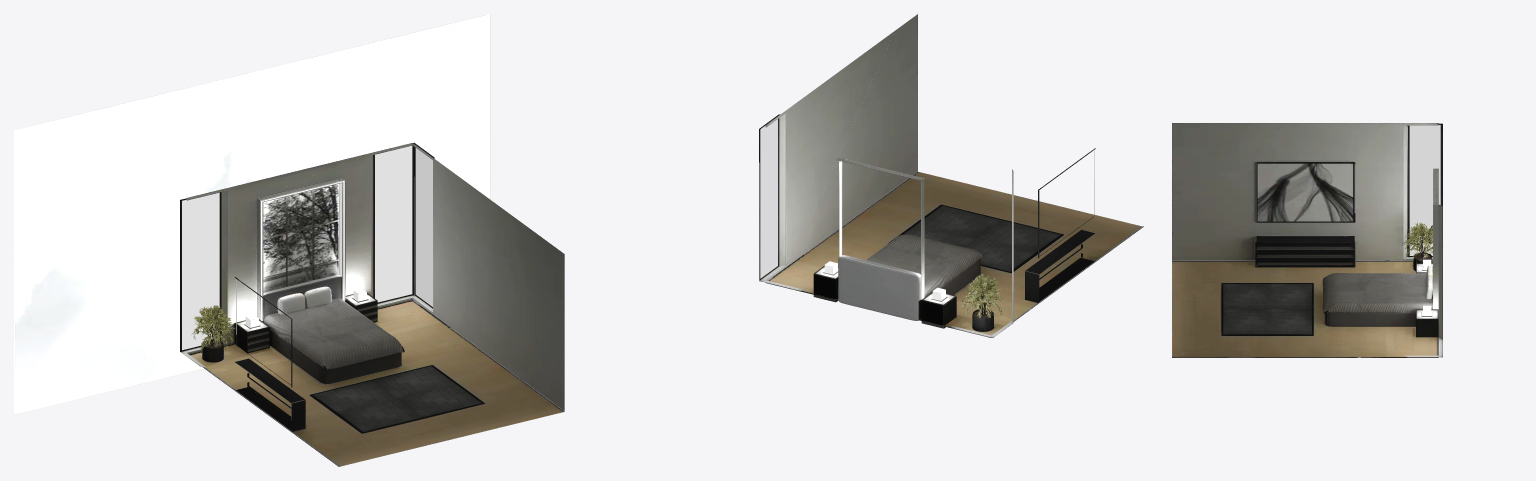
The model's file is bedroom.glb.
3 renders of one model, left to right at view 1: azimuth 30°, elevation 25°; view 2: azimuth 150°, elevation 25°; view 3: azimuth 270°, elevation 25°, orthographic. The views are drawn at different scales.
Visible parts, largest first — view 1: rest -1 -2, rest 0 -2, rest 0 -1, floor -1 0, rest 0 0, floor 0 -1, rest -1 -1, floor 0 0, rest -1 0, floor -1 -1; view 2: rest 0 -1, floor -1 0, rest 0 0, floor 0 -1, rest -1 -1, rest -1 -2, rest 0 -2, floor 0 0, rest -1 0, floor -1 -1; view 3: rest -1 0, rest -1 -1, floor -1 0, floor 0 -1, rest 0 -1, floor 0 0, rest 0 -2, floor -1 -1.
Boxes of the visible parts, box(x1,y1,x2,y2) form: rest -1 -2: box(14, 14, 489, 414); rest 0 -2: box(14, 14, 490, 414); rest 0 -1: box(304, 143, 541, 389); floor -1 0: box(192, 356, 562, 466); rest 0 0: box(424, 238, 564, 418); floor 0 -1: box(190, 295, 562, 411); rest -1 -1: box(194, 279, 370, 436); floor 0 0: box(380, 319, 564, 456); rest -1 0: box(219, 319, 423, 466); floor -1 -1: box(181, 352, 379, 452); rest 0 -1: box(759, 31, 941, 301); floor -1 0: box(918, 172, 1142, 335); rest 0 0: box(789, 14, 917, 264); floor 0 -1: box(760, 172, 989, 334); rest -1 -1: box(902, 169, 1112, 331); rest -1 -2: box(804, 179, 991, 337); rest 0 -2: box(759, 129, 951, 327); floor 0 0: box(788, 171, 1105, 266); rest -1 0: box(1020, 150, 1143, 315); floor -1 -1: box(980, 242, 1120, 337); rest -1 0: box(1172, 123, 1407, 308); rest -1 -1: box(1213, 123, 1442, 295); floor -1 0: box(1172, 257, 1432, 356); floor 0 -1: box(1175, 270, 1442, 357); rest 0 -1: box(1181, 277, 1438, 357); floor 0 0: box(1172, 270, 1317, 357); rest 0 -2: box(1432, 204, 1442, 339); floor -1 -1: box(1258, 257, 1432, 308).
Size of the model in its own units: 10.83 by 6.19 by 7.86.
Materials: 4 (3 with a texture image).
